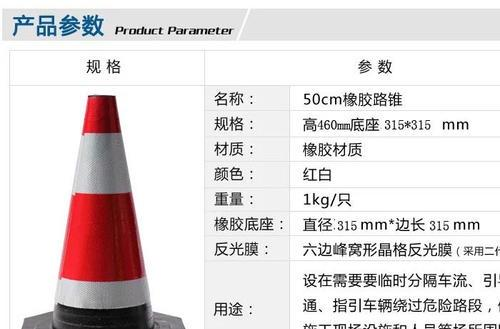cone_barrel: (39, 94, 160, 326)
